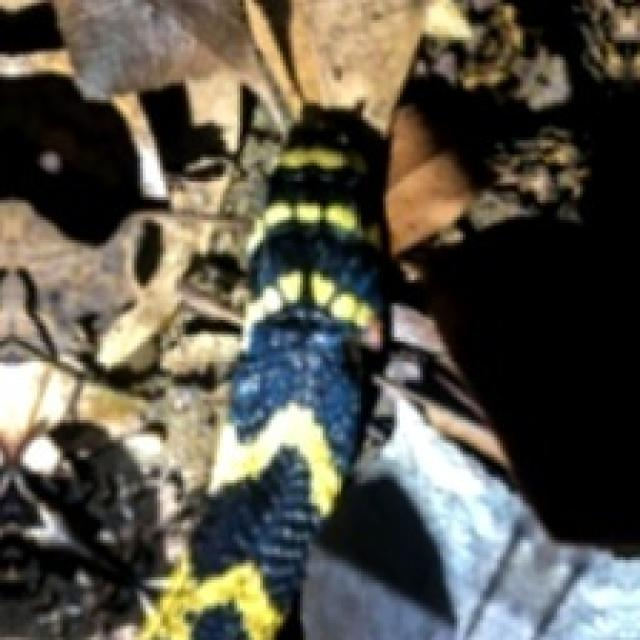king cobra: (140, 106, 389, 637)
